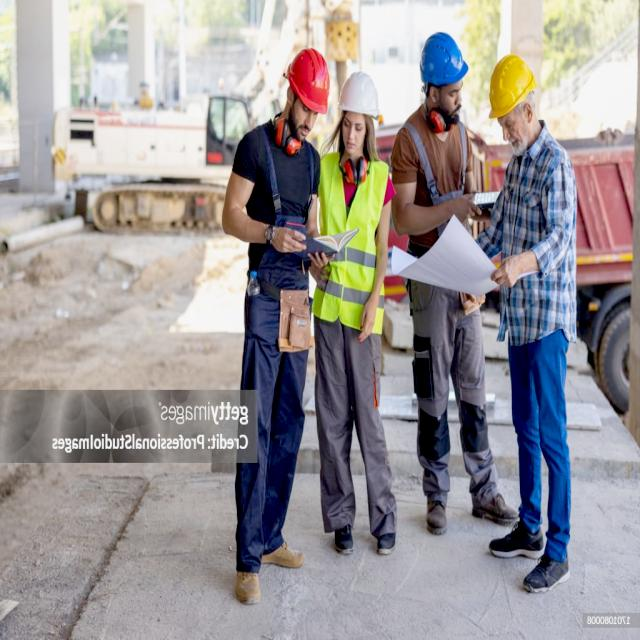helmet: (488, 54, 538, 120), (286, 47, 331, 113), (419, 32, 469, 86), (338, 70, 380, 118)
no-vest: (475, 121, 576, 348), (388, 106, 486, 271), (238, 122, 325, 297)
person: (216, 33, 340, 603), (389, 0, 515, 552), (468, 24, 584, 604), (319, 61, 396, 558)
vest: (316, 158, 388, 326)
